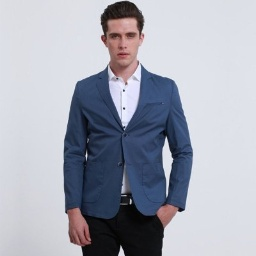face: (98, 1, 146, 68)
